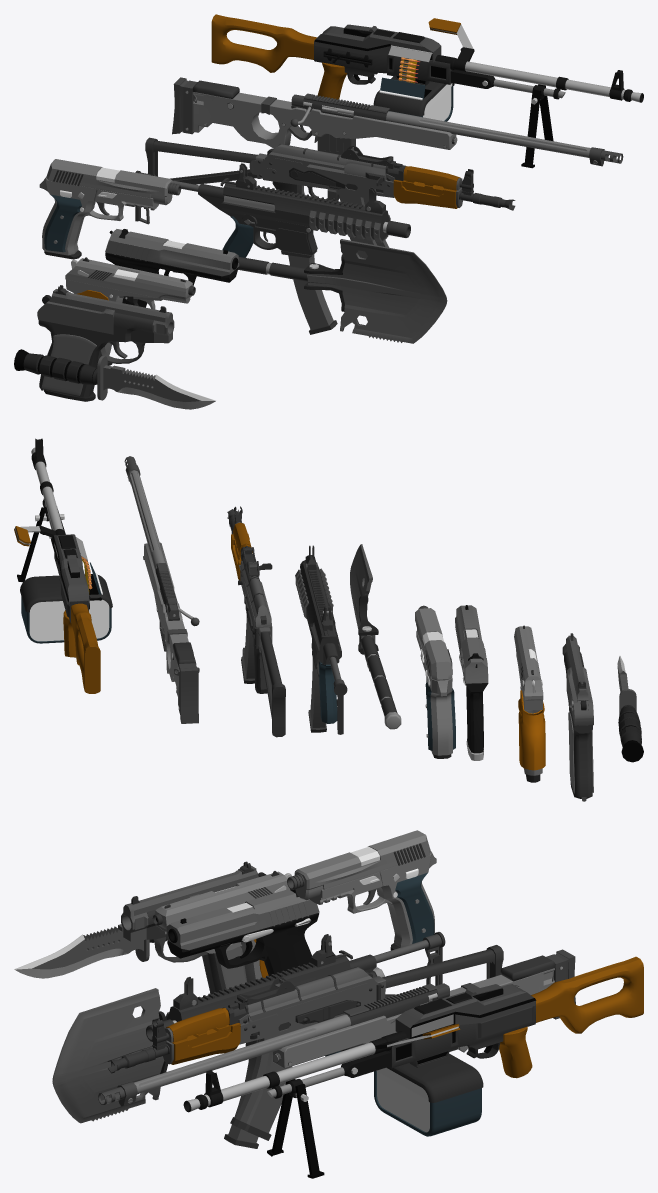
3 renders of one model, top to bottom at view 1: azimuth 30°, elevation 25°; view 2: azimuth 150°, elevation 25°; view 3: azimuth 270°, elevation 25°, orthographic. The views are drawn at different scales.
Visible parts, largest first — view 1: PKM, AW_338, AKS74U, Sig_Saguer_Mpx, Tactic_Shovel, PSS_Assassin_Pistol, Sig_Saguer_P226, HK_USP, Halmak_Komando, Makarov; view 2: PKM, AW_338, AKS74U, Sig_Saguer_Mpx, Sig_Saguer_P226, PSS_Assassin_Pistol, Makarov, HK_USP, Tactic_Shovel, Halmak_Komando; view 3: PKM, AKS74U, AW_338, Tactic_Shovel, Sig_Saguer_P226, HK_USP, Sig_Saguer_Mpx, PSS_Assassin_Pistol, Makarov, Halmak_Komando.
Part boxes in pixels (box(x1,y1,x2,y2)): PKM: box(211, 14, 643, 168); AW_338: box(172, 77, 623, 166); AKS74U: box(145, 137, 515, 258); Sig_Saguer_Mpx: box(135, 163, 410, 334); Tactic_Shovel: box(238, 239, 447, 343); PSS_Assassin_Pistol: box(37, 285, 174, 401); Sig_Saguer_P226: box(39, 159, 181, 259); HK_USP: box(105, 229, 239, 307); Halmak_Komando: box(14, 349, 215, 409); Makarov: box(65, 257, 195, 365); PKM: box(14, 438, 112, 693); AW_338: box(124, 456, 199, 723); AKS74U: box(227, 506, 285, 737); Sig_Saguer_Mpx: box(295, 545, 347, 734); Sig_Saguer_P226: box(415, 605, 455, 758); PSS_Assassin_Pistol: box(562, 633, 593, 801); Makarov: box(514, 625, 545, 782); HK_USP: box(455, 605, 488, 760); Tactic_Shovel: box(350, 544, 401, 729); Halmak_Komando: box(617, 656, 643, 762); PKM: box(183, 956, 643, 1178); AKS74U: box(107, 945, 503, 1140); AW_338: box(98, 949, 575, 1106); Tactic_Shovel: box(52, 967, 384, 1123); Sig_Saguer_P226: box(287, 830, 436, 950); HK_USP: box(166, 889, 319, 976); Sig_Saguer_Mpx: box(146, 932, 445, 1148); PSS_Assassin_Pistol: box(121, 861, 266, 994); Makarov: box(152, 871, 291, 982); Halmak_Komando: box(14, 924, 167, 978).
Bounding box in the file's own units: 7517 × 2371 × 5519.
